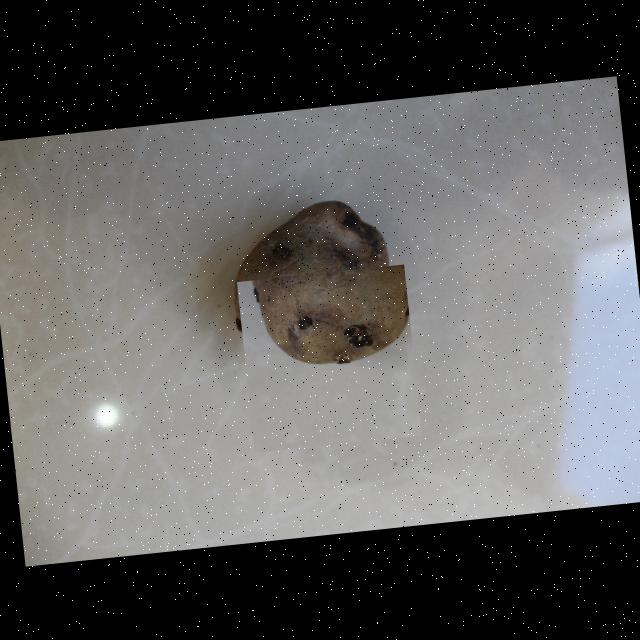Diseased-fungal potato: (235, 263, 420, 452)
